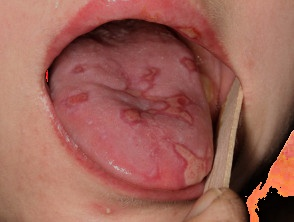SJS-TEN: (22, 0, 271, 222)
